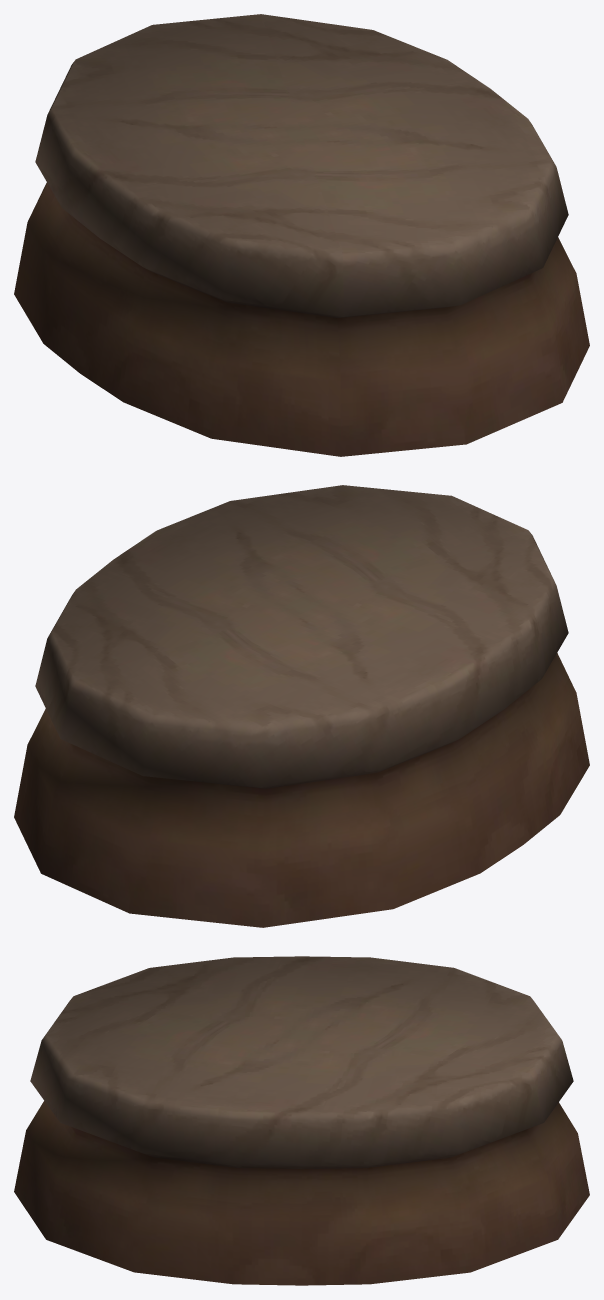
3 views of the same model, one above another, from view 1: azimuth 30°, elevation 25°; view 2: azimuth 150°, elevation 25°; view 3: azimuth 270°, elevation 25° (orthographic). The views are drawn at different scales.
Size of the model in its own units: 2.16 by 0.8655 by 2.85.
Materials: 1 (1 with a texture image).
